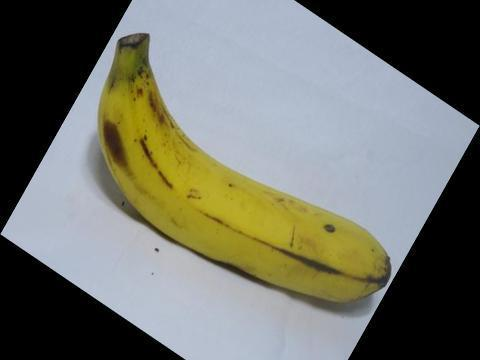ripe: (82, 25, 408, 303)
